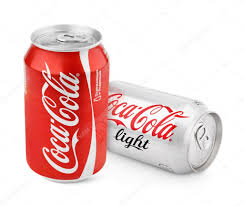can: (19, 25, 113, 181), (115, 76, 225, 185)
